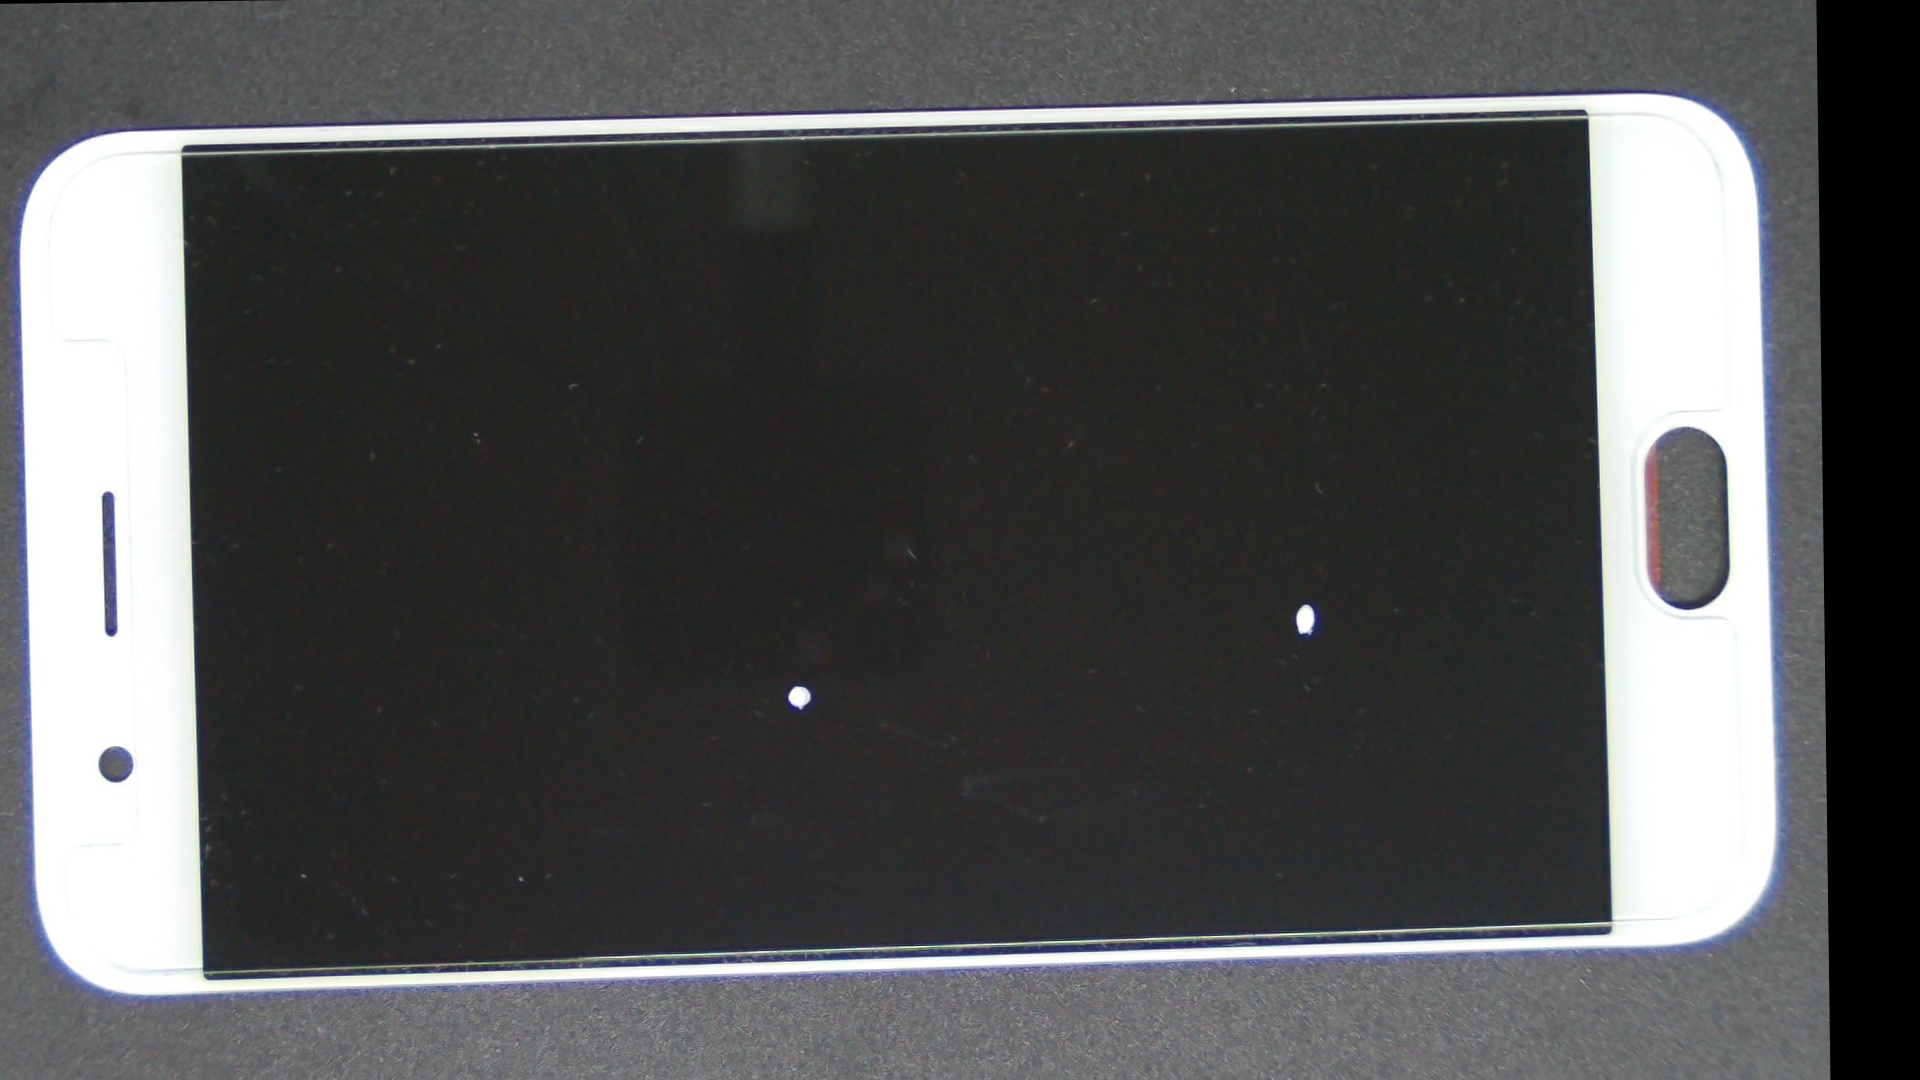oil: (620, 286, 1828, 922), (365, 332, 1228, 1035)
